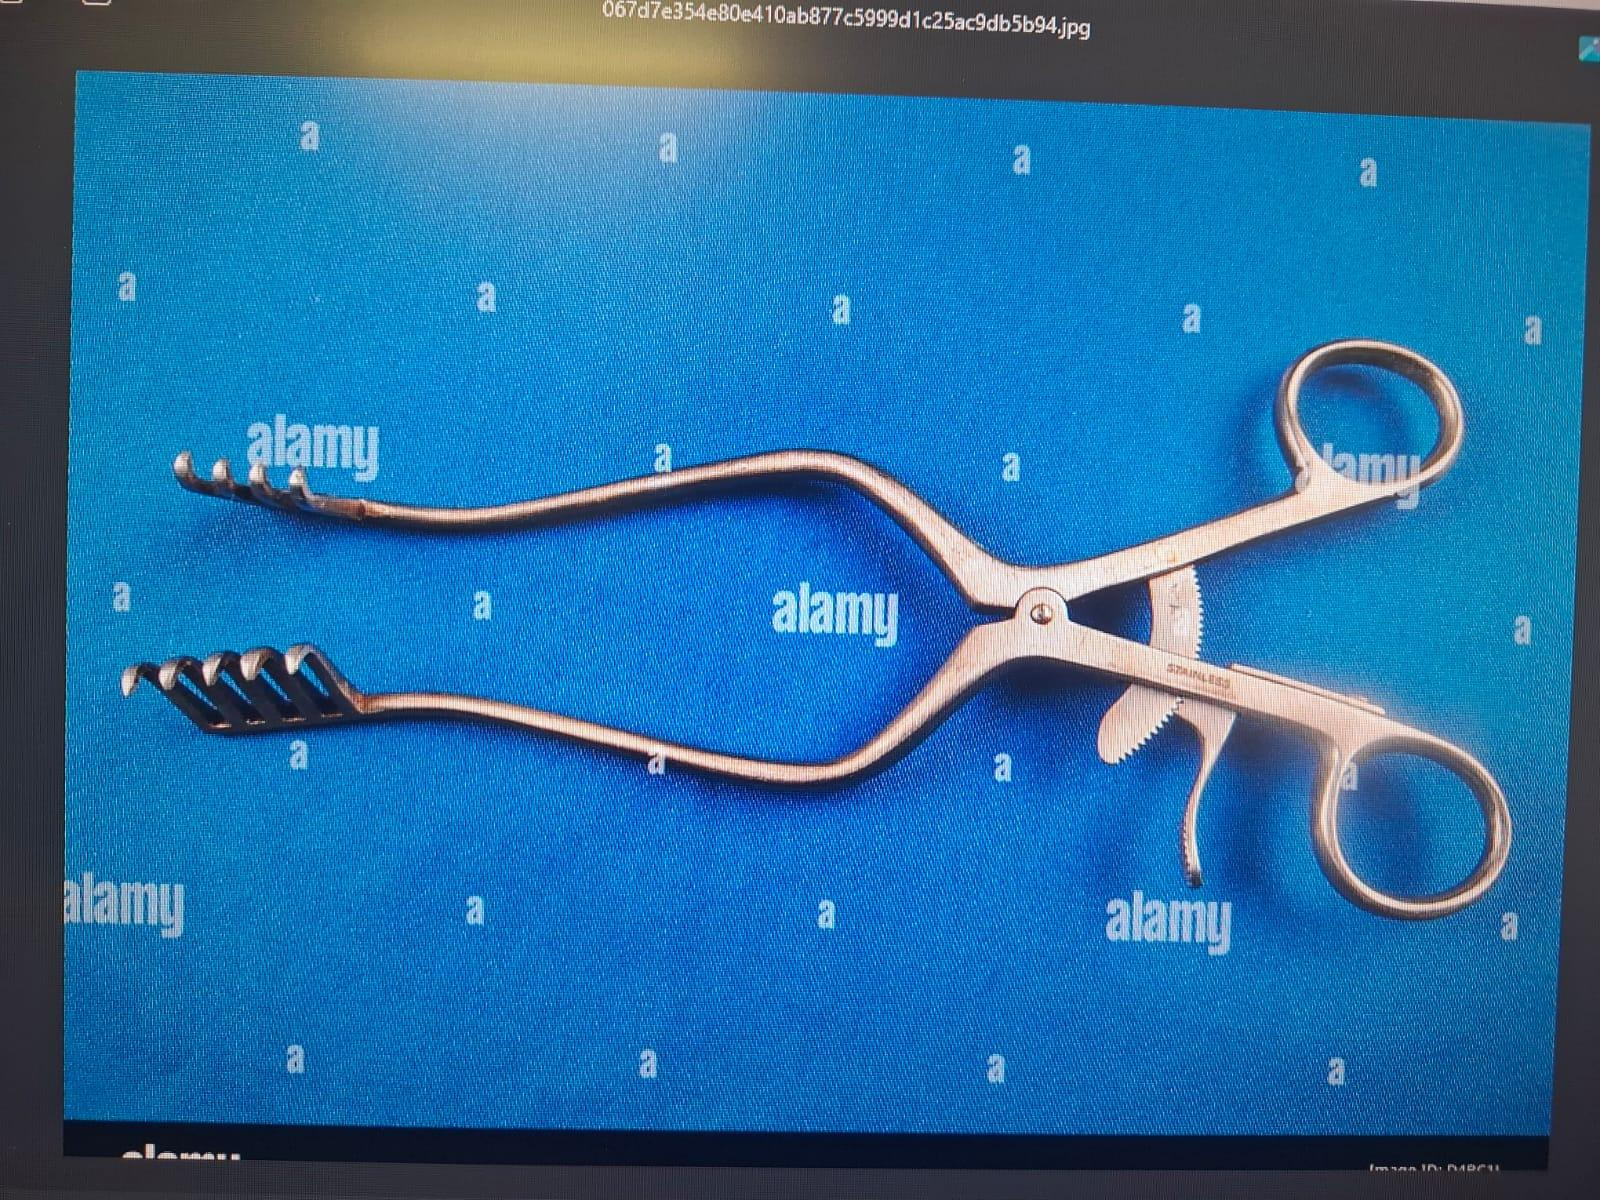Self Retractor: (112, 320, 1528, 926)
